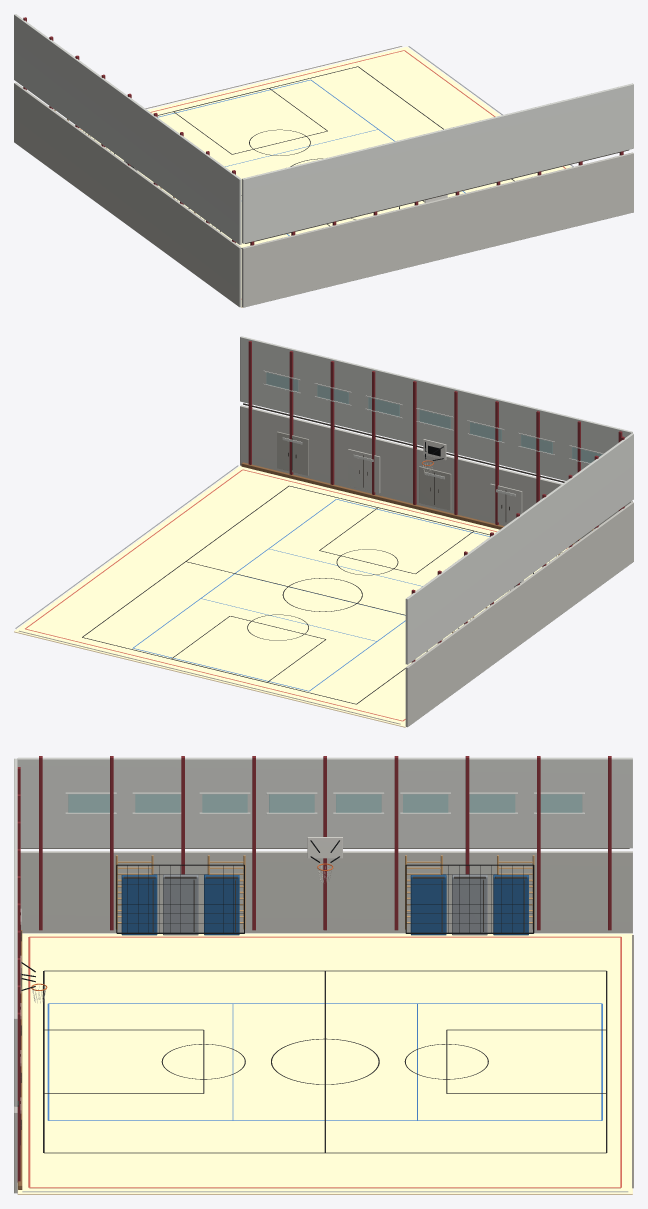
The model's file is Echte_Halle_Grosse_Hallenhaelfte_v3_open.glb.
3 views of the same model, one above another, from view 1: azimuth 30°, elevation 25°; view 2: azimuth 150°, elevation 25°; view 3: azimuth 270°, elevation 25° (orthographic). The views are drawn at different scales.
Visible parts, largest first — view 1: v3_grosse_hallenhaelfte_visible_geraeteraum_wall_upper_light, v3_grosse_hallenhaelfte_open_planner_floor_20x20m, v3_grosse_hallenhaelfte_visible_geraeteraum_wall_lower_grey_, v3_grosse_hallenhaelfte_kept_outer_window_wall_upper_light_w, v3_grosse_hallenhaelfte_kept_outer_window_wall_lower_wall_pa, v3_grosse_hallenhaelfte_visible_geraeteraum_wall_continuous_; view 2: v3_grosse_hallenhaelfte_open_planner_floor_20x20m, v3_grosse_hallenhaelfte_visible_geraeteraum_wall_upper_light, v3_grosse_hallenhaelfte_kept_outer_window_wall_upper_light_w, v3_grosse_hallenhaelfte_kept_outer_window_wall_lower_wall_pa, v3_grosse_hallenhaelfte_visible_geraeteraum_wall_lower_grey_, v3_grosse_hallenhaelfte_visible_geraeteraum_wall_storage_doo (×4), v3_grosse_hallenhaelfte_visible_geraeteraum_wall_wooden_base, v3_grosse_hallenhaelfte_visible_geraeteraum_wall_continuous_, v3_grosse_hallenhaelfte_visible_geraeteraum_wall_burgundy_st, v3_grosse_hallenhaelfte_open_planner_edge_marker; view 3: v3_grosse_hallenhaelfte_open_planner_floor_20x20m, v3_grosse_hallenhaelfte_kept_outer_window_wall_upper_light_w, v3_grosse_hallenhaelfte_kept_outer_window_wall_lower_wall_pa, v3_grosse_hallenhaelfte_kept_outer_window_wall_high_window_g (×8), v3_grosse_hallenhaelfte_long_outer_wall_equipment_lower_mirr (×3), v3_grosse_hallenhaelfte_long_outer_wall_equipment_upper_mirr (×3), v3_grosse_hallenhaelfte_kept_outer_window_wall_burgundy_vert (×7), v3_grosse_hallenhaelfte_visible_geraeteraum_wall_upper_light, v3_grosse_hallenhaelfte_removed_partition_floor_track, v3_grosse_hallenhaelfte_red_outer_playing_area_right, v3_grosse_hallenhaelfte_red_outer_playing_area_left, v3_grosse_hallenhaelfte_black_basketball_court_right (+4 smaller).
Boxes of the visible parts, x1,y1,x2,y2 form: v3_grosse_hallenhaelfte_visible_geraeteraum_wall_upper_light: [242, 83, 633, 243]; v3_grosse_hallenhaelfte_open_planner_floor_20x20m: [79, 46, 571, 307]; v3_grosse_hallenhaelfte_visible_geraeteraum_wall_lower_grey_: [242, 152, 633, 307]; v3_grosse_hallenhaelfte_kept_outer_window_wall_upper_light_w: [14, 14, 241, 244]; v3_grosse_hallenhaelfte_kept_outer_window_wall_lower_wall_pa: [14, 82, 241, 307]; v3_grosse_hallenhaelfte_visible_geraeteraum_wall_continuous_: [245, 150, 628, 243]; v3_grosse_hallenhaelfte_open_planner_floor_20x20m: [14, 466, 568, 727]; v3_grosse_hallenhaelfte_visible_geraeteraum_wall_upper_light: [240, 336, 632, 480]; v3_grosse_hallenhaelfte_kept_outer_window_wall_upper_light_w: [405, 433, 633, 664]; v3_grosse_hallenhaelfte_kept_outer_window_wall_lower_wall_pa: [405, 502, 633, 727]; v3_grosse_hallenhaelfte_visible_geraeteraum_wall_lower_grey_: [240, 405, 632, 543]; v3_grosse_hallenhaelfte_visible_geraeteraum_wall_storage_doo (×4): [277, 431, 522, 524]; v3_grosse_hallenhaelfte_visible_geraeteraum_wall_wooden_base: [241, 462, 574, 544]; v3_grosse_hallenhaelfte_visible_geraeteraum_wall_continuous_: [243, 403, 564, 482]; v3_grosse_hallenhaelfte_visible_geraeteraum_wall_burgundy_st: [330, 361, 334, 484]; v3_grosse_hallenhaelfte_open_planner_edge_marker: [18, 630, 400, 724]; v3_grosse_hallenhaelfte_open_planner_floor_20x20m: [17, 933, 632, 1194]; v3_grosse_hallenhaelfte_kept_outer_window_wall_upper_light_w: [17, 757, 632, 848]; v3_grosse_hallenhaelfte_kept_outer_window_wall_lower_wall_pa: [20, 851, 632, 933]; v3_grosse_hallenhaelfte_kept_outer_window_wall_high_window_g (×8): [68, 794, 582, 812]; v3_grosse_hallenhaelfte_long_outer_wall_equipment_lower_mirr (×3): [121, 874, 239, 935]; v3_grosse_hallenhaelfte_long_outer_wall_equipment_upper_mirr (×3): [410, 874, 528, 935]; v3_grosse_hallenhaelfte_kept_outer_window_wall_burgundy_vert (×7): [39, 756, 611, 930]; v3_grosse_hallenhaelfte_visible_geraeteraum_wall_upper_light: [14, 758, 17, 1106]; v3_grosse_hallenhaelfte_removed_partition_floor_track: [22, 1191, 628, 1192]; v3_grosse_hallenhaelfte_red_outer_playing_area_right: [29, 1187, 620, 1188]; v3_grosse_hallenhaelfte_red_outer_playing_area_left: [29, 936, 620, 937]; v3_grosse_hallenhaelfte_black_basketball_court_right: [44, 1152, 606, 1153].
Size of the model in its own units: 20.16 by 6.41 by 20.16.
